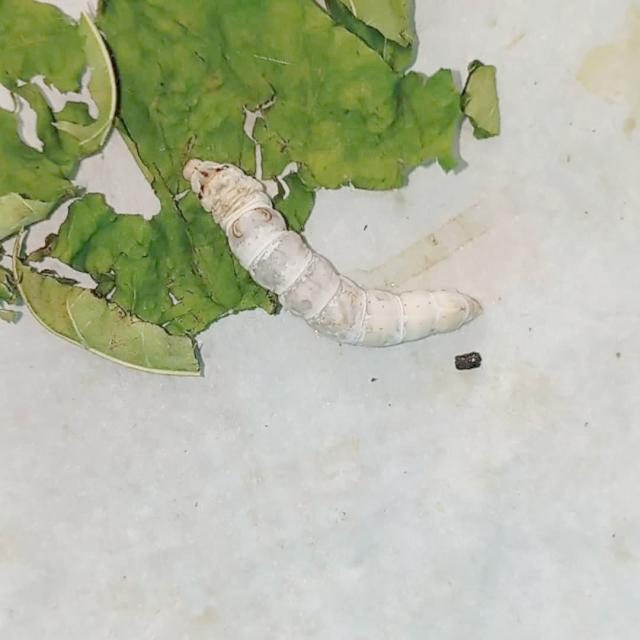Grasserie: (152, 124, 496, 383)
